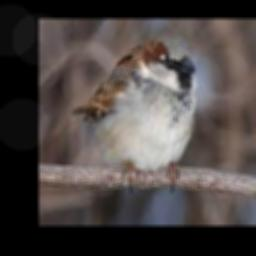Sparrow: (69, 35, 197, 193)
